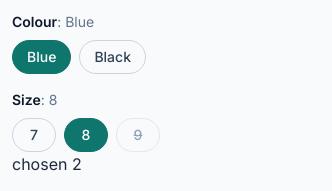
VariantPicker › changing the colour keeps the size when it is available
Click the button "Black".
click(113, 57)  # box top-left (79, 40), bottom-right (146, 74)
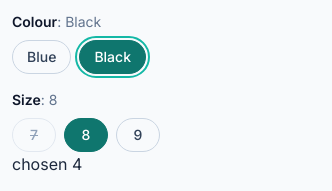
expect the text "chosen 4" is shown: met, box top-left (12, 154), bottom-right (82, 174)
